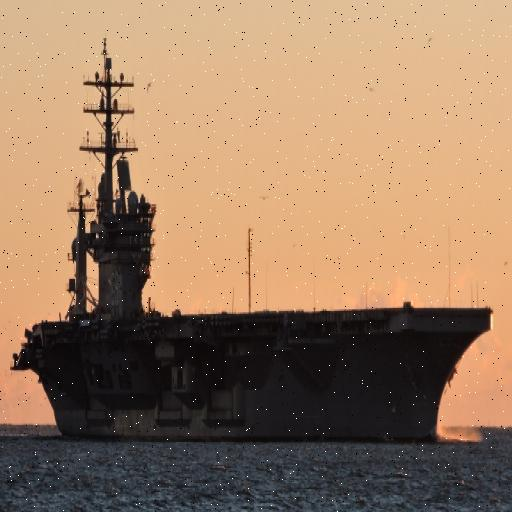Portanaves: (6, 35, 499, 445)
